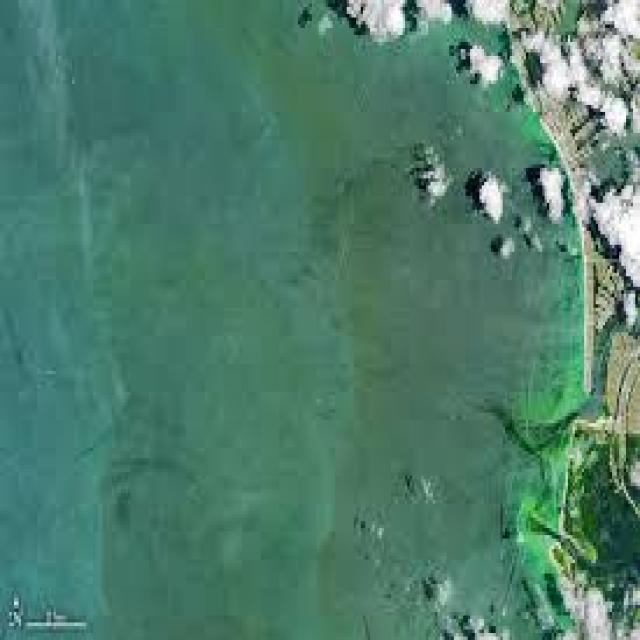algal: (77, 74, 344, 591)
